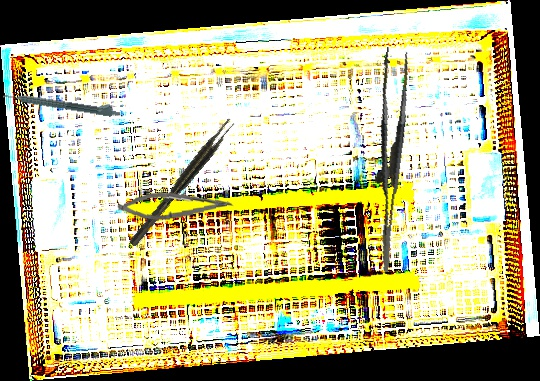Handpiece: (2, 86, 122, 119)
Micro Scissor: (116, 185, 235, 225)
Tissue Forceps: (345, 46, 430, 273), (125, 116, 238, 248)
